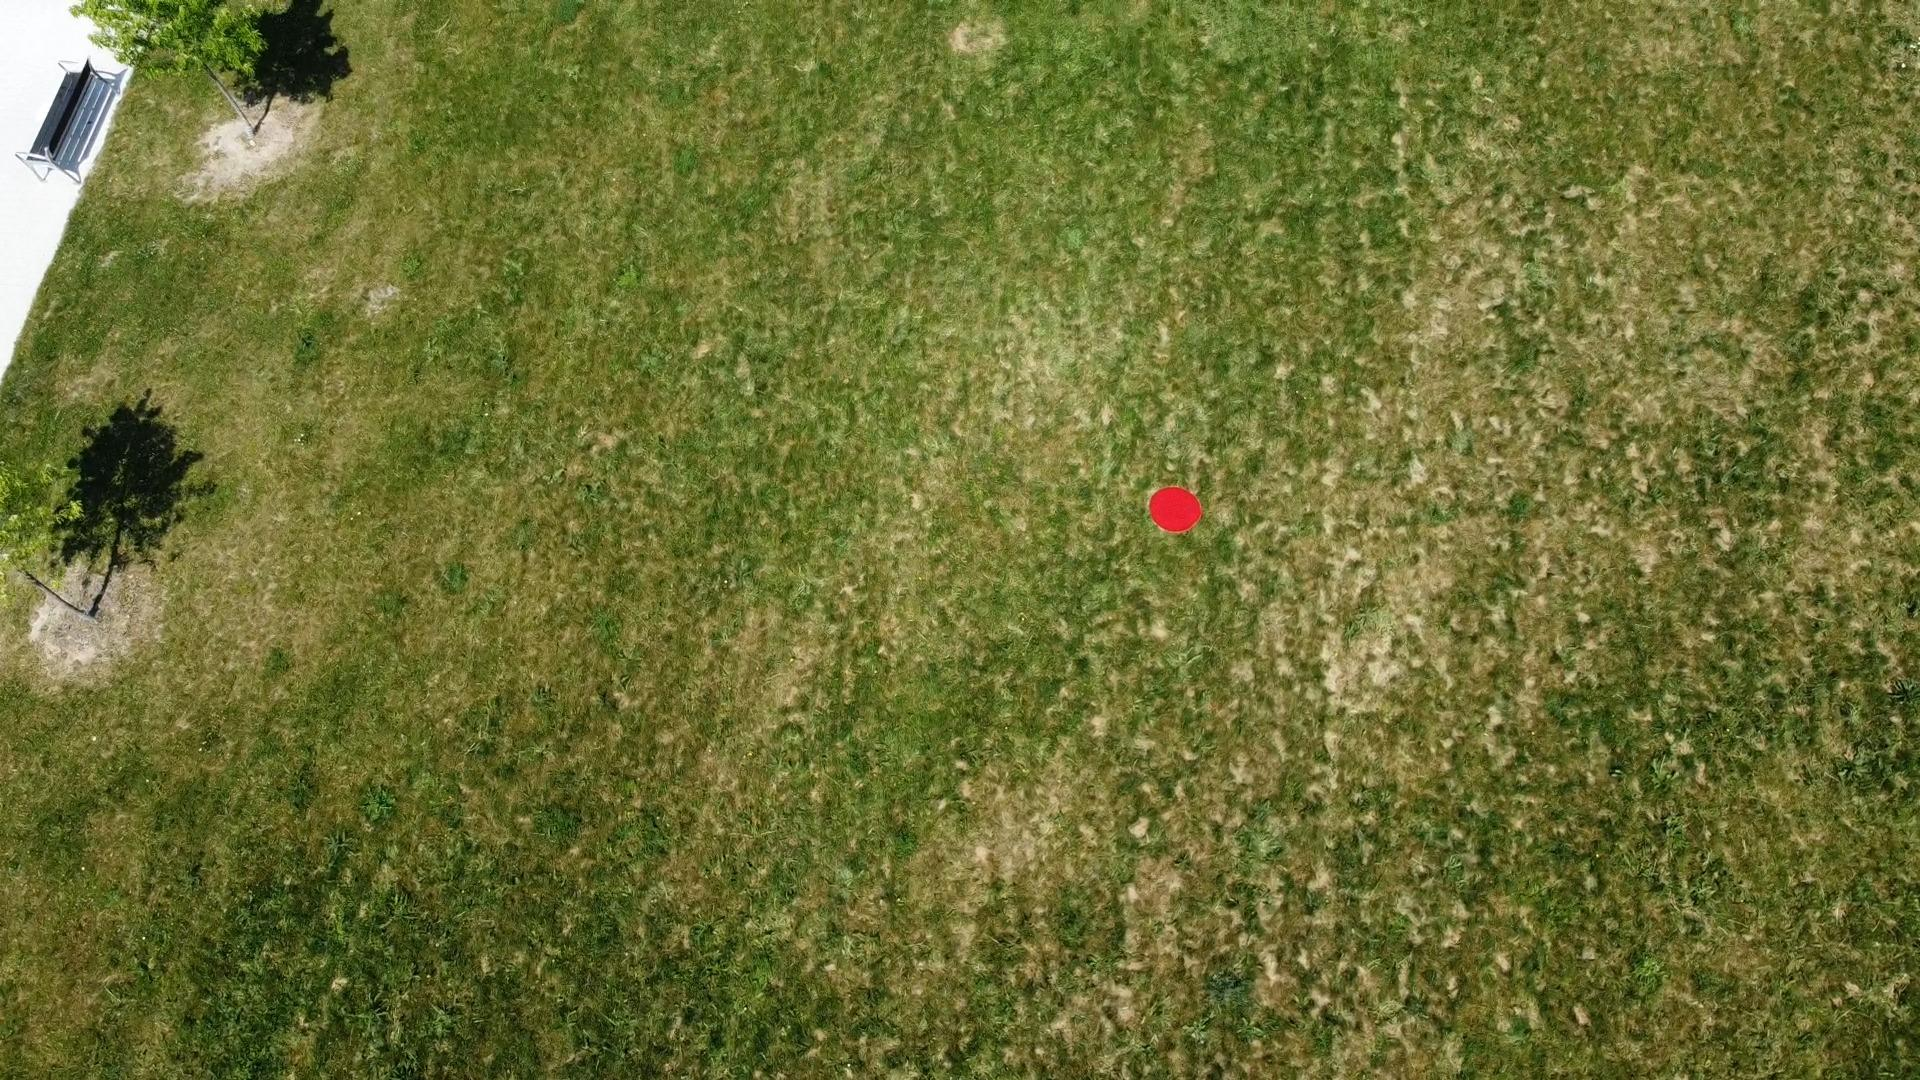Red: (1145, 485, 1207, 535)
